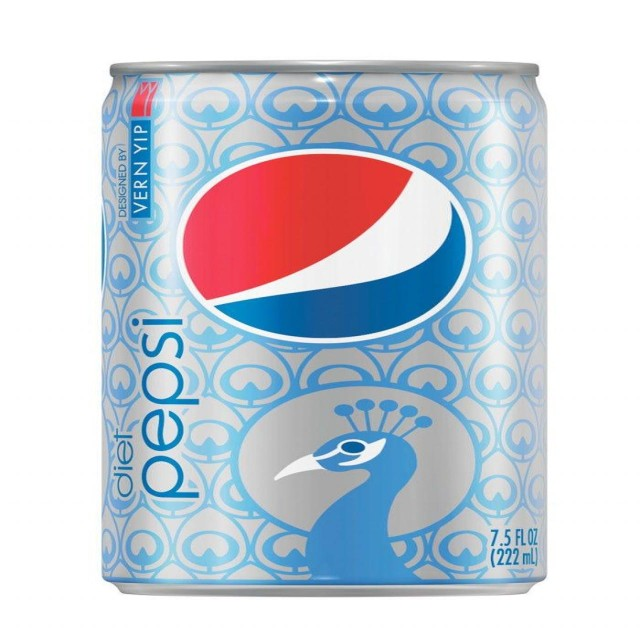pepsi: (186, 146, 479, 346)
